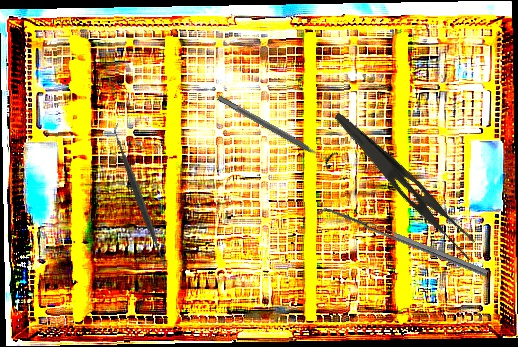Dressing Forceps: (319, 110, 488, 264)
Fixation Ring: (213, 88, 339, 171)
Spatula Surgical: (63, 122, 216, 274), (315, 202, 489, 284)
